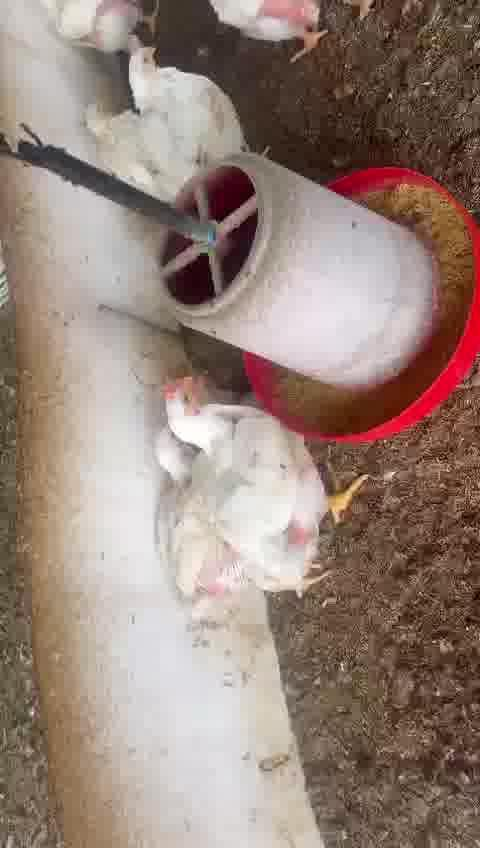Normal: (160, 372, 365, 580), (149, 429, 293, 592), (119, 45, 263, 152), (77, 104, 224, 169)
